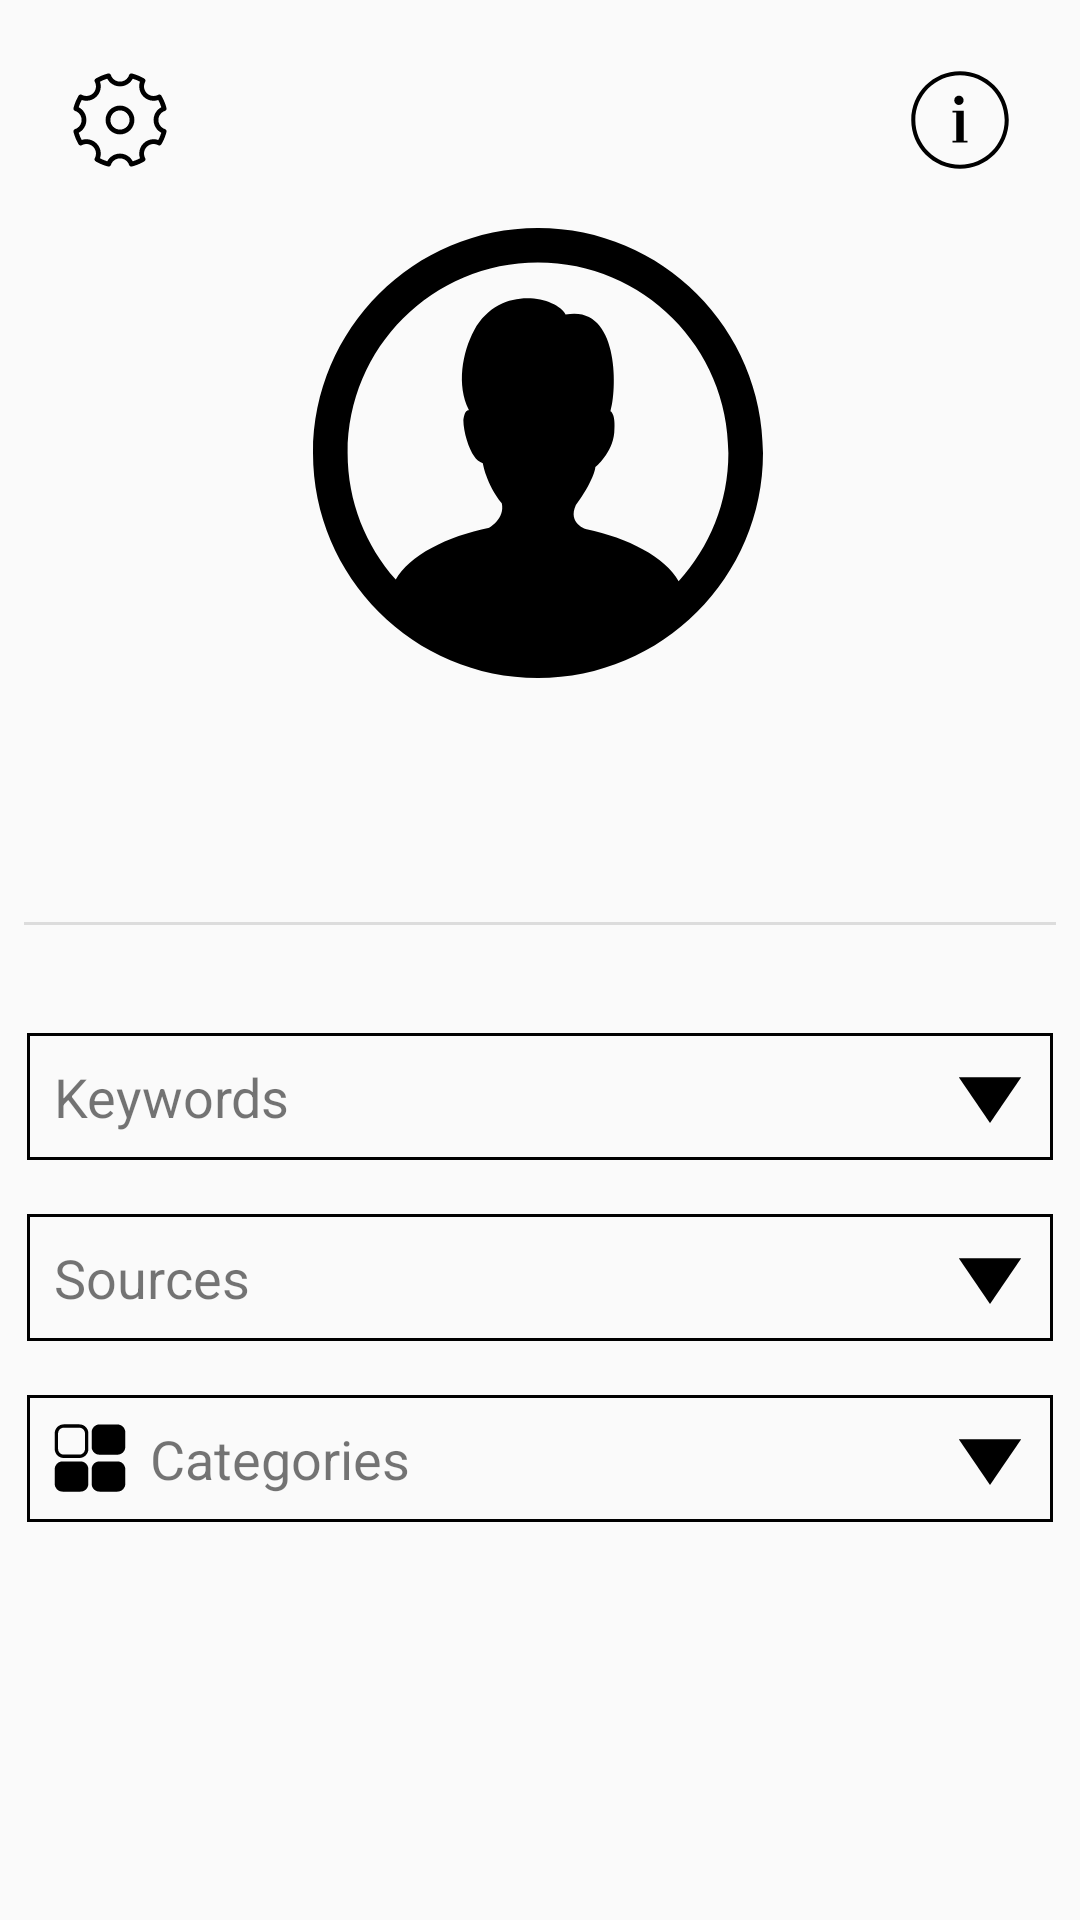

Named icons in this screenshot (1080w x 1920h) and their centers, (x=x, y=y):
Info Icon: (x=960, y=120)
Settings Icon: (x=120, y=120)
